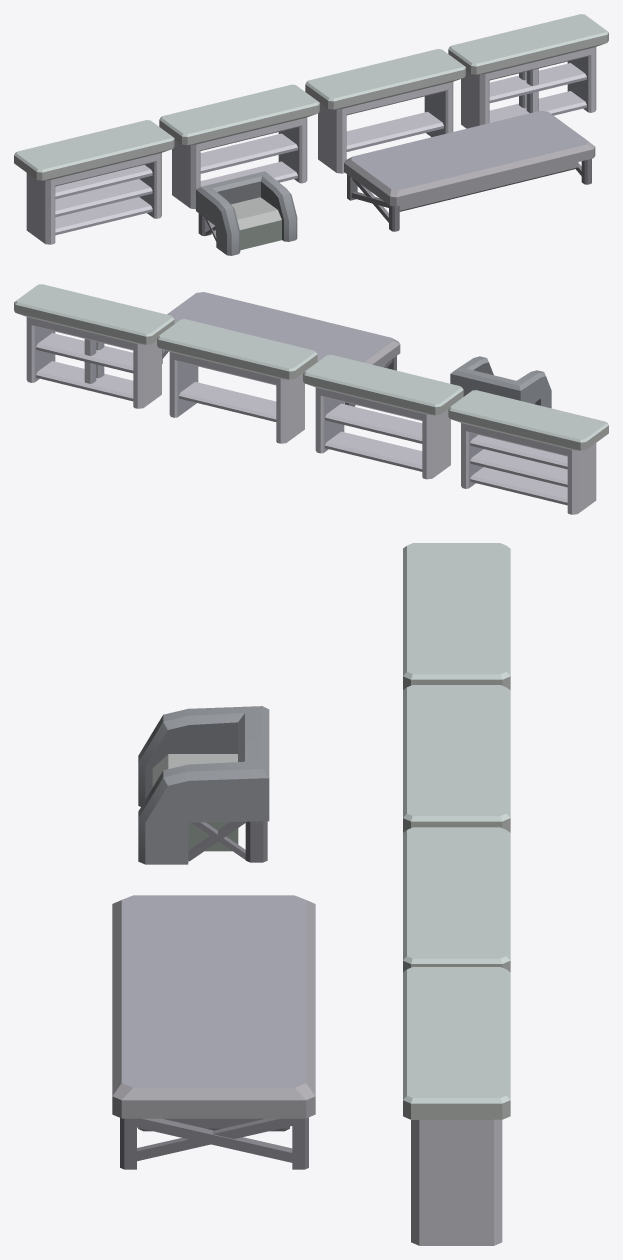
Rendered from Storage_V1.fbx.
3 views of the same model, one above another, from view 1: azimuth 30°, elevation 25°; view 2: azimuth 150°, elevation 25°; view 3: azimuth 270°, elevation 25° (orthographic). The views are drawn at different scales.
Visible parts, largest first — view 1: Storage_Table_A, Storage_Rack_C, Storage_Rack_D, Storage_Rack_A, Storage_Rack_B, Storage_Chair_A; view 2: Storage_Rack_C, Storage_Rack_D, Storage_Rack_A, Storage_Rack_B, Storage_Table_A, Storage_Chair_A; view 3: Storage_Table_A, Storage_Rack_D, Storage_Chair_A, Storage_Rack_A, Storage_Rack_C, Storage_Rack_B.
Part boxes in pixels (x1,y1,x2,y2): Storage_Table_A: (344,110,595,231); Storage_Rack_C: (14,120,174,244); Storage_Rack_D: (448,14,608,128); Storage_Rack_A: (159,84,319,209); Storage_Rack_B: (305,49,465,173); Storage_Chair_A: (196,171,297,255); Storage_Rack_C: (448,390,608,514); Storage_Rack_D: (14,284,174,408); Storage_Rack_A: (303,354,463,479); Storage_Rack_B: (157,319,317,443); Storage_Table_A: (162,292,400,406); Storage_Chair_A: (450,356,551,408); Storage_Table_A: (112,895,315,1169); Storage_Rack_D: (403,967,510,1245); Storage_Chair_A: (138,706,269,864); Storage_Rack_A: (403,685,510,832); Storage_Rack_C: (403,543,510,689); Storage_Rack_B: (403,827,510,971).
Bounding box in the file's own units: 0.0098 × 0.00128 × 0.00295.
